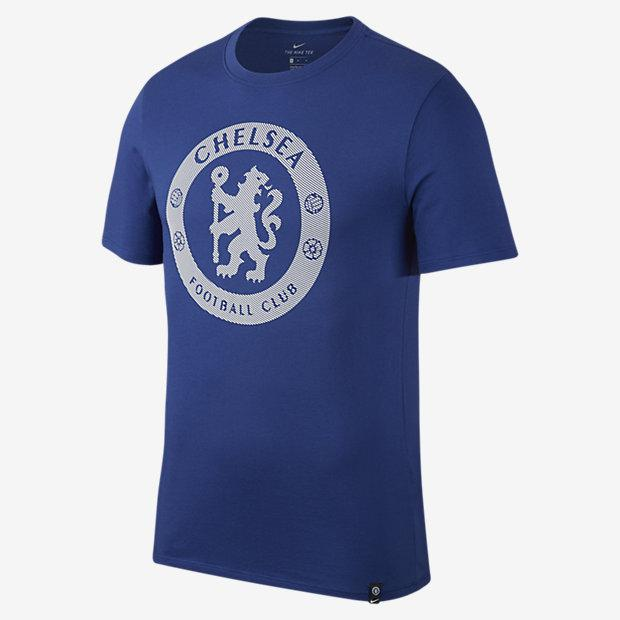teeshirt: (73, 5, 517, 612)
